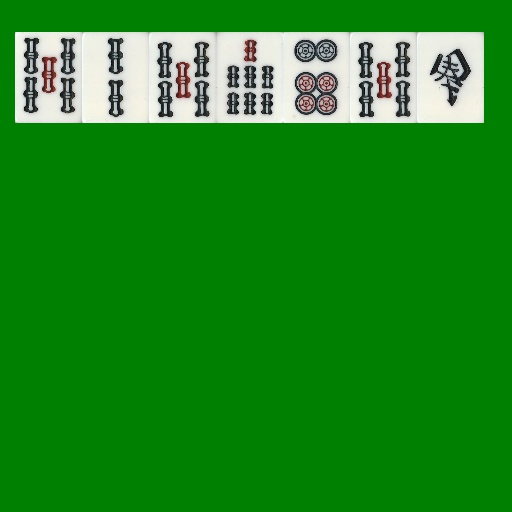2s: (82, 32, 149, 123)
5s: (15, 32, 82, 123), (149, 32, 216, 123), (350, 32, 417, 123)
6p: (283, 32, 350, 123)
7s: (216, 32, 283, 123)
south: (417, 32, 484, 123)
